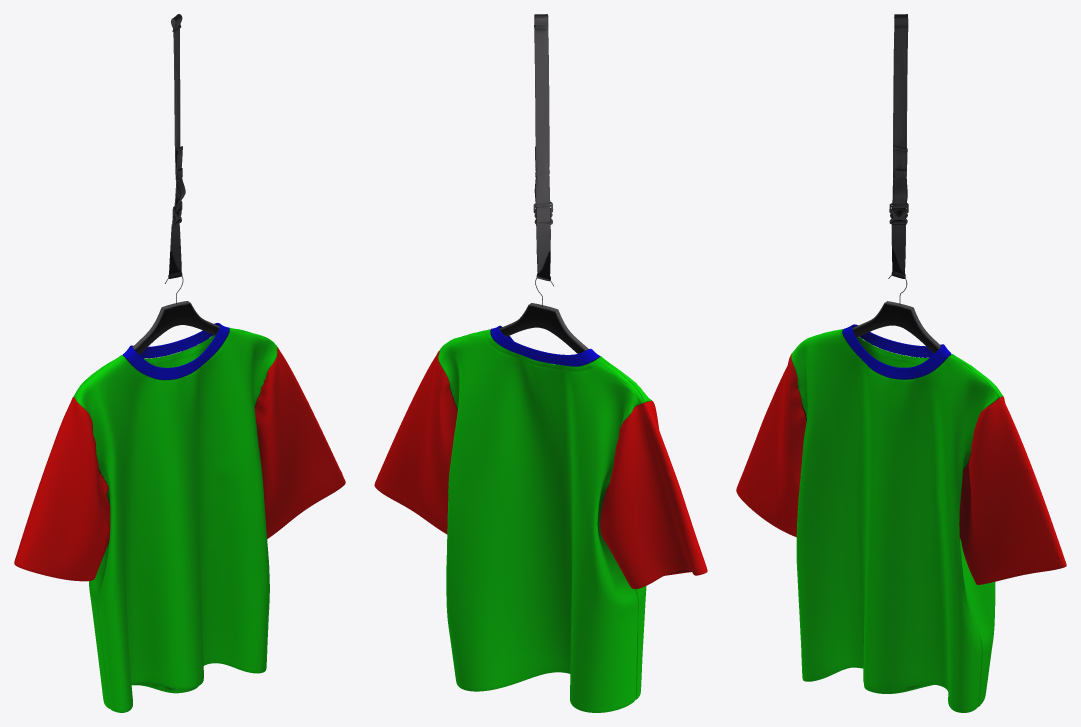
Rendered from TShirtWithHanger.glb.
The picture shows the model from 3 angles, left to right: view 1: azimuth 30°, elevation 25°; view 2: azimuth 150°, elevation 25°; view 3: azimuth 330°, elevation 25°; orthographic projection.
Visible parts, largest first — view 1: TShirt, Hanger; view 2: TShirt, Hanger; view 3: TShirt, Hanger.
Boxes of the visible parts, <box> form: TShirt: <box>14,323,345,712</box>; Hanger: <box>126,14,229,363</box>; TShirt: <box>374,325,707,712</box>; Hanger: <box>490,14,598,362</box>; TShirt: <box>736,324,1066,712</box>; Hanger: <box>842,14,950,362</box>.
Bounding box in the file's own units: 0.7689 × 1.49 × 0.167.
2 materials, 2 textured.
